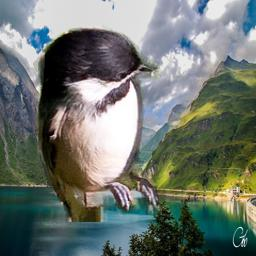Swallow: (33, 22, 167, 222)
